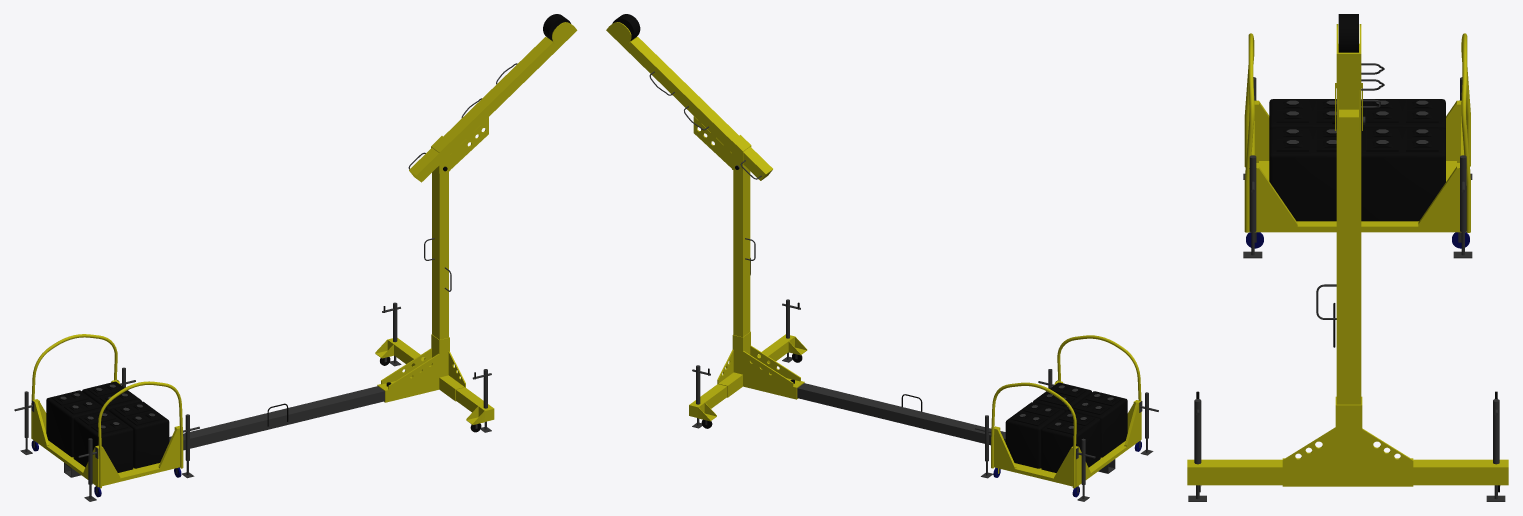
The model's file is SM_Davit_arm_T.FBX.
3 views of the same model, side by side, from view 1: azimuth 30°, elevation 25°; view 2: azimuth 150°, elevation 25°; view 3: azimuth 270°, elevation 25° (orthographic). The views are drawn at different scales.
Parts seen in each view (by area): view 1: SM_Davit_arm_T; view 2: SM_Davit_arm_T; view 3: SM_Davit_arm_T.
Boxes of the visible parts, <box> form: SM_Davit_arm_T: <box>14,14,577,501</box>; SM_Davit_arm_T: <box>606,14,1158,501</box>; SM_Davit_arm_T: <box>1187,14,1508,501</box>.
Size of the model in its own units: 268 by 171 by 86.38.
